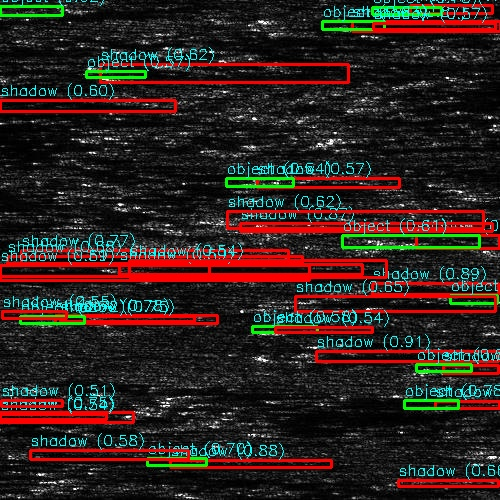rock: (133, 492, 278, 500), (385, 300, 448, 313), (288, 348, 351, 361), (434, 366, 500, 375), (375, 8, 448, 15), (0, 410, 30, 425), (103, 460, 166, 467), (467, 188, 500, 201), (379, 101, 432, 108), (369, 240, 442, 245), (402, 404, 475, 409), (81, 72, 134, 77), (141, 61, 194, 66), (244, 327, 285, 332), (385, 285, 416, 290), (0, 256, 31, 261), (233, 180, 264, 183)
shadow: (0, 246, 301, 257), (0, 98, 171, 115), (0, 410, 164, 425), (320, 348, 500, 361), (0, 256, 342, 261), (135, 460, 371, 467), (0, 271, 206, 278), (0, 258, 288, 263), (206, 492, 384, 500), (108, 72, 347, 77), (417, 300, 500, 313), (0, 119, 114, 126), (249, 180, 495, 183), (406, 101, 500, 108), (412, 8, 500, 15), (265, 327, 384, 332), (0, 311, 81, 318), (406, 240, 469, 245), (401, 285, 463, 290), (439, 404, 500, 409), (168, 61, 228, 66), (471, 366, 500, 375), (0, 495, 84, 498)
